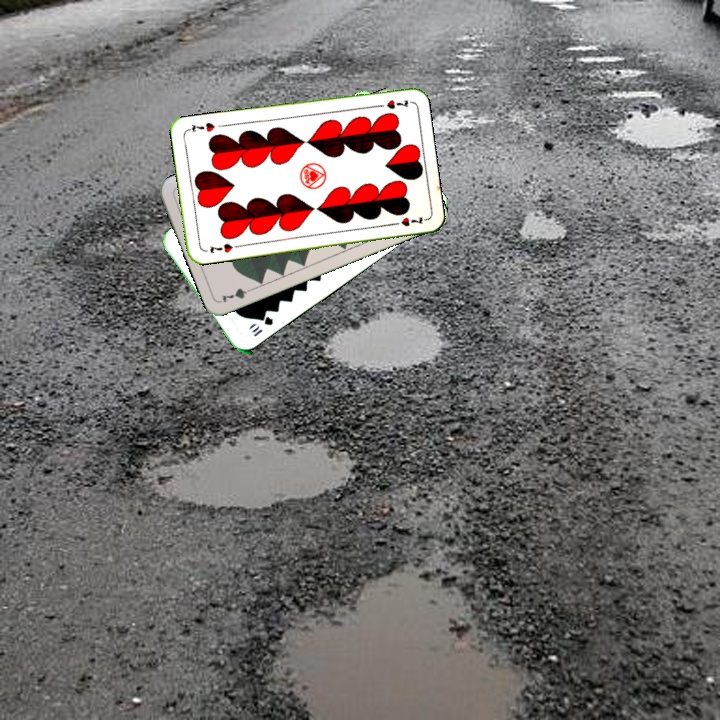G10: (248, 312, 276, 339)
G7: (218, 283, 258, 305)
H7: (372, 96, 412, 112), (206, 239, 235, 256)
